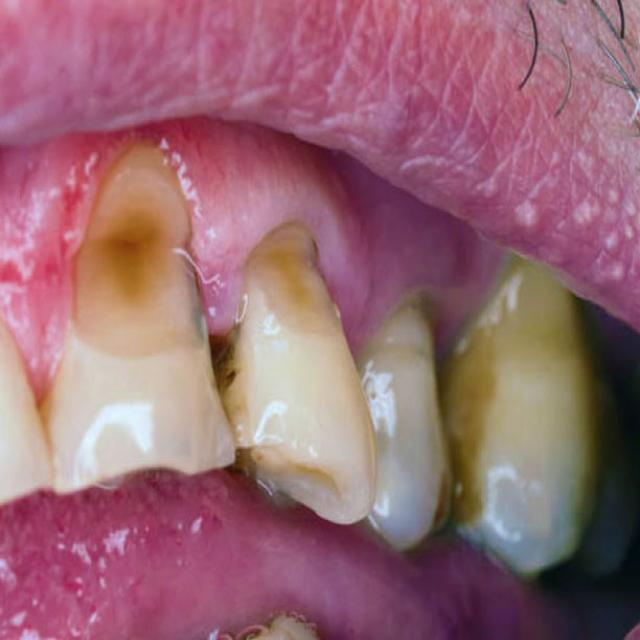caries: (78, 152, 200, 365), (235, 213, 326, 341)
